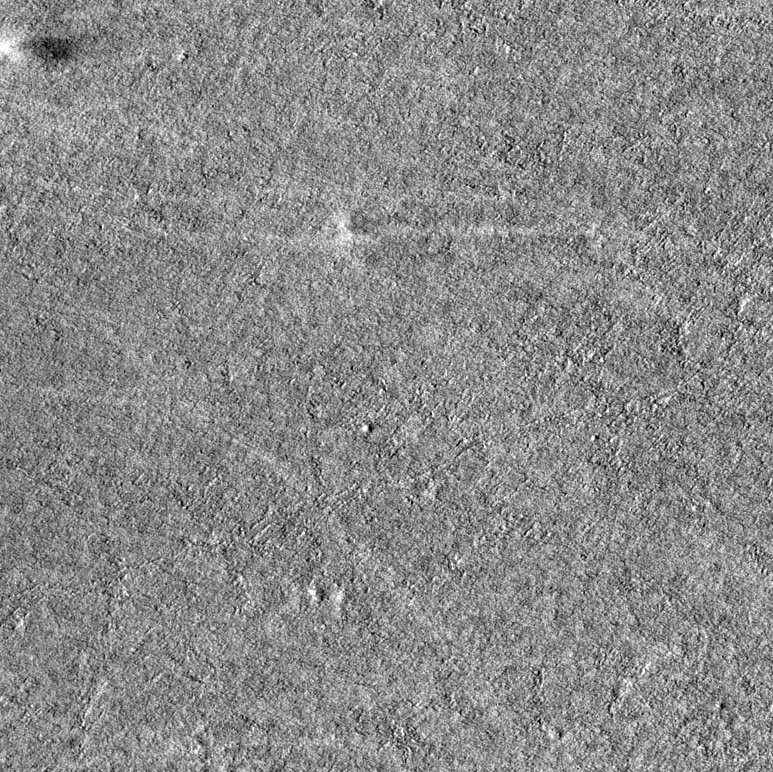dust_devil: (1, 34, 77, 64)
